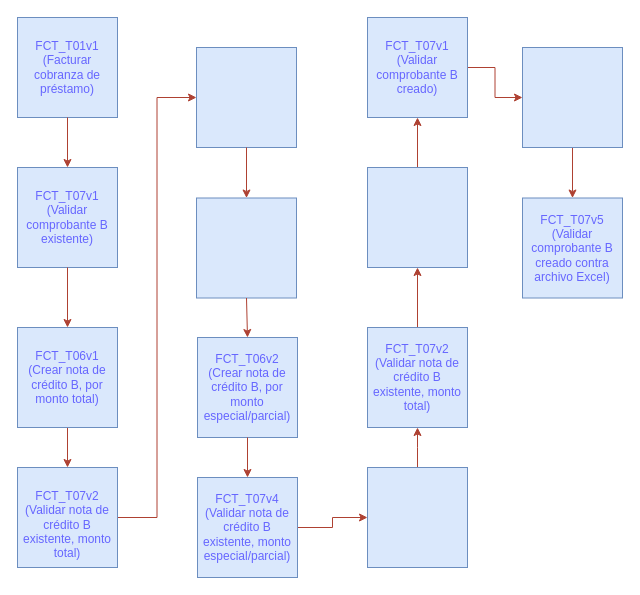
The diagram is 640 pixels wide and 595 high, and some of its shapes have lost their labels. Each missing label, with the centre of its shape:
"FCT_T02v1 (Facturación Excel de cobranza de préstamo)" goes at point 572,97.
"FCT_T04v1 (Modificar comprobante con filtro de numero)" goes at point 417,517.
"FCT_T04v2 (Modificar comprobante con filtro de fecha)" goes at point 417,217.
"FCT_T05v1 (Eliminar comprobante, con filtro de numero)" goes at point 246,97.
"FCT_T07v3 (Validar comprobante eliminado)" goes at point 246,247.
